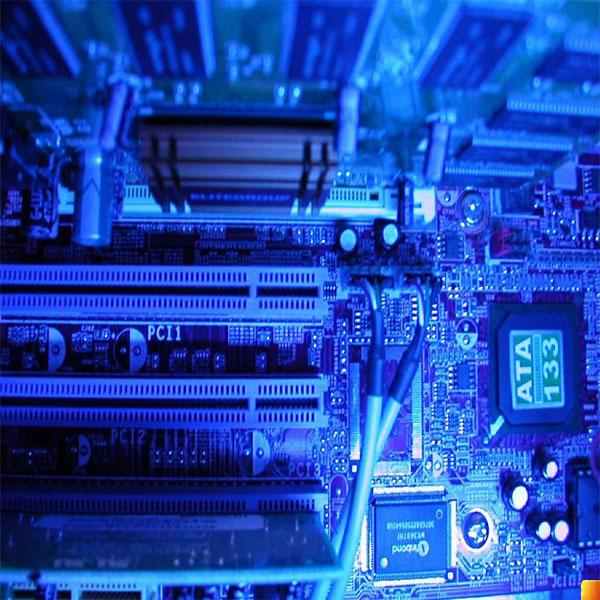componente_T: (578, 578, 600, 600)
